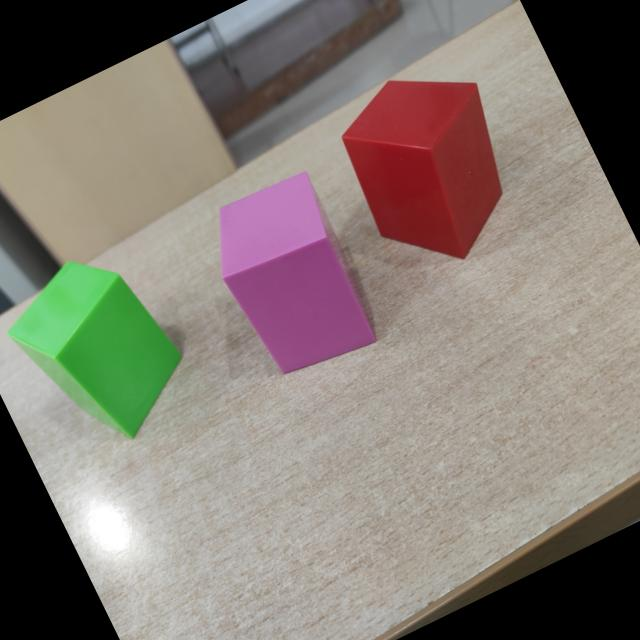green: (7, 261, 183, 440)
pink: (218, 170, 378, 375)
red: (342, 79, 504, 260)
